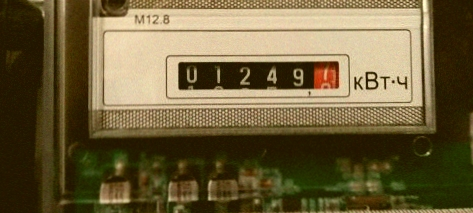0: (184, 63, 198, 83)
1: (211, 63, 223, 84)
2: (236, 64, 252, 86)
4: (265, 64, 278, 84)
7: (319, 60, 332, 80)
9: (291, 66, 304, 87)
screen: (162, 49, 353, 100)
